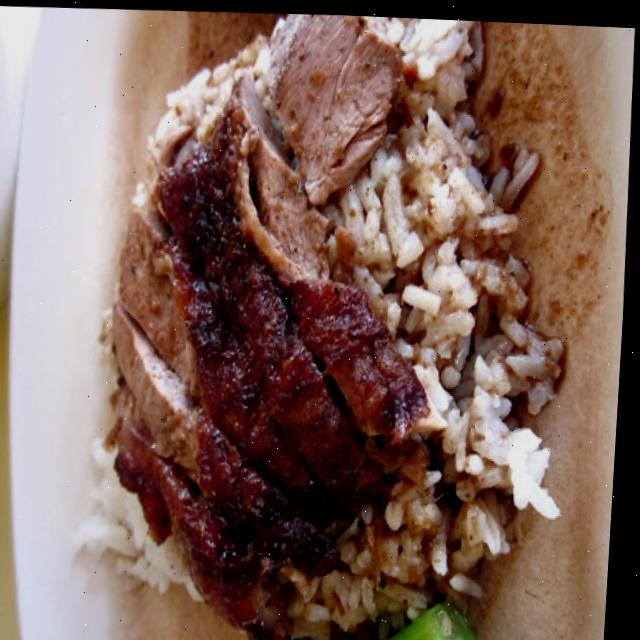米饭主食: (23, 2, 628, 640)
